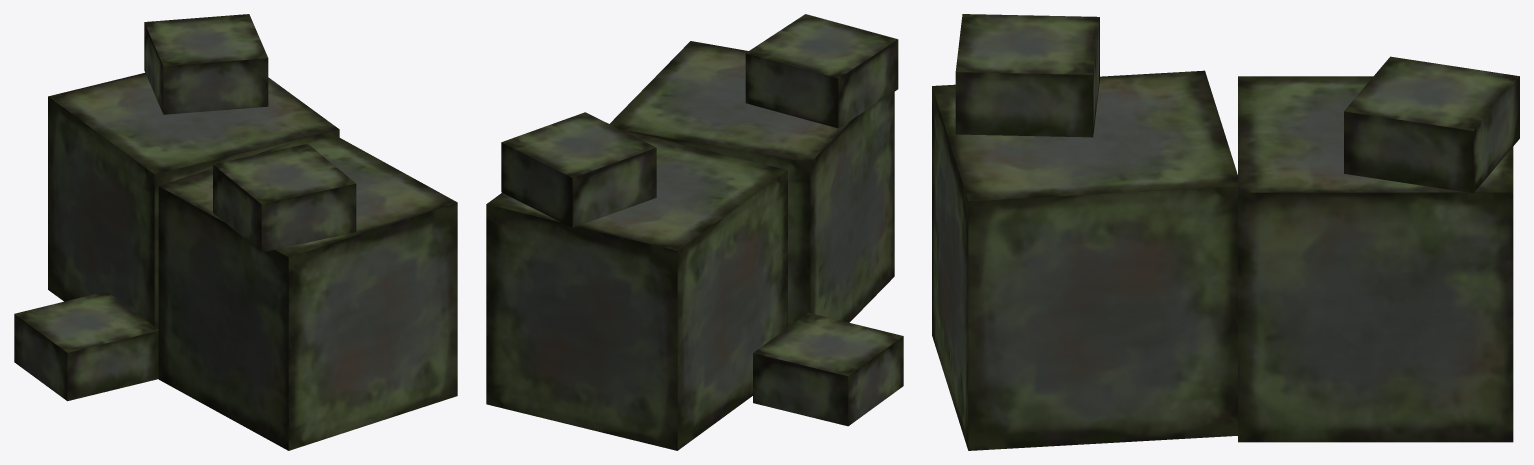
File: rubble-large-02.fbx
The picture shows the model from 3 angles, left to right: view 1: azimuth 30°, elevation 25°; view 2: azimuth 150°, elevation 25°; view 3: azimuth 270°, elevation 25°; orthographic projection. The views are drawn at different scales.
Visible parts, largest first — view 1: rubble_large_2; view 2: rubble_large_2; view 3: rubble_large_2.
Boxes of the visible parts, bbox=[...] form: rubble_large_2: bbox=[14, 14, 457, 450]; rubble_large_2: bbox=[486, 14, 903, 450]; rubble_large_2: bbox=[932, 14, 1519, 450].
Bounding box in the file's own units: 323 × 250 × 427.
